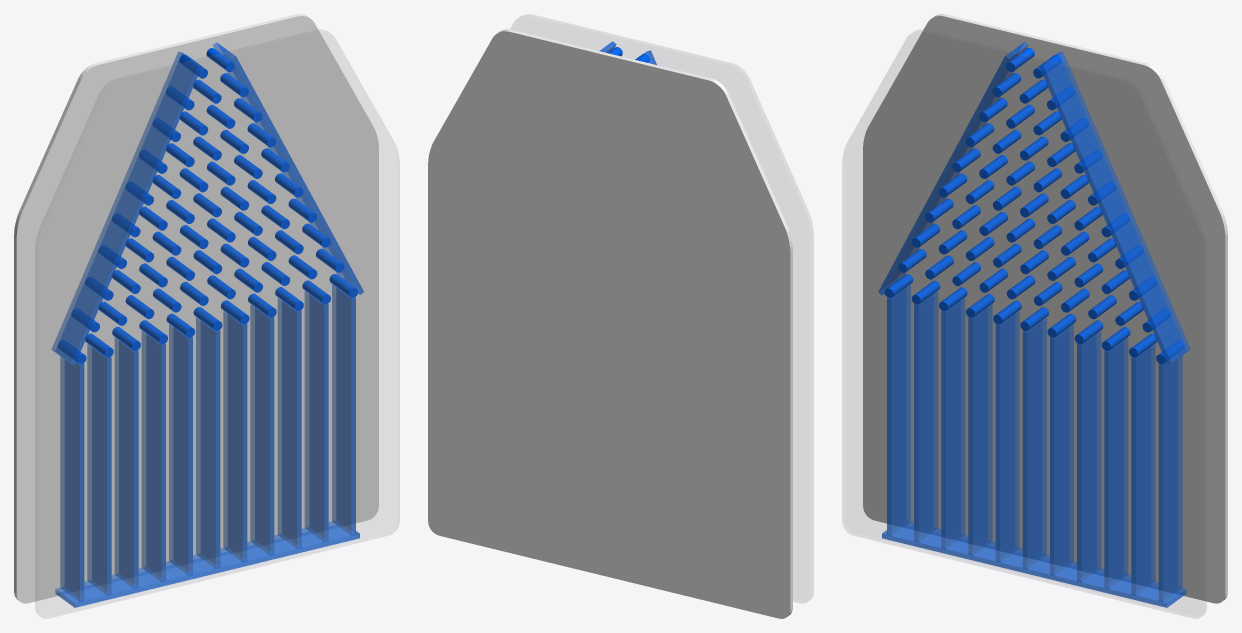
Rendered from galton_board.fbx.
3 renders of one model, left to right at view 1: azimuth 30°, elevation 25°; view 2: azimuth 150°, elevation 25°; view 3: azimuth 330°, elevation 25°, orthographic.
Visible parts, largest first — view 1: Back, Front, Sep, Cylinder, Left, Bottom, Right; view 2: Back, Front; view 3: Back, Front, Sep, Cylinder, Right, Bottom, Left.
Boxes of the visible parts, bbox=[...] form: Back: bbox=[14, 14, 378, 603]; Front: bbox=[35, 30, 399, 618]; Sep: bbox=[60, 284, 355, 601]; Cylinder: bbox=[58, 48, 357, 363]; Left: bbox=[51, 51, 201, 364]; Bottom: bbox=[55, 521, 359, 607]; Right: bbox=[213, 42, 363, 294]; Back: bbox=[428, 29, 792, 618]; Front: bbox=[511, 14, 813, 602]; Back: bbox=[863, 14, 1227, 603]; Front: bbox=[842, 30, 1206, 618]; Sep: bbox=[887, 285, 1182, 601]; Cylinder: bbox=[884, 48, 1184, 364]; Right: bbox=[1039, 51, 1190, 364]; Bottom: bbox=[882, 521, 1186, 607]; Left: bbox=[878, 42, 1028, 295].
Size of the model in its own units: 800 by 1100 by 90.
